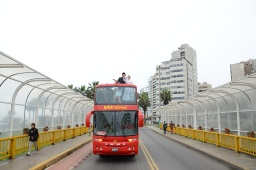bus: (86, 83, 146, 165)
person: (24, 121, 40, 155), (161, 120, 168, 136), (169, 119, 174, 137)
